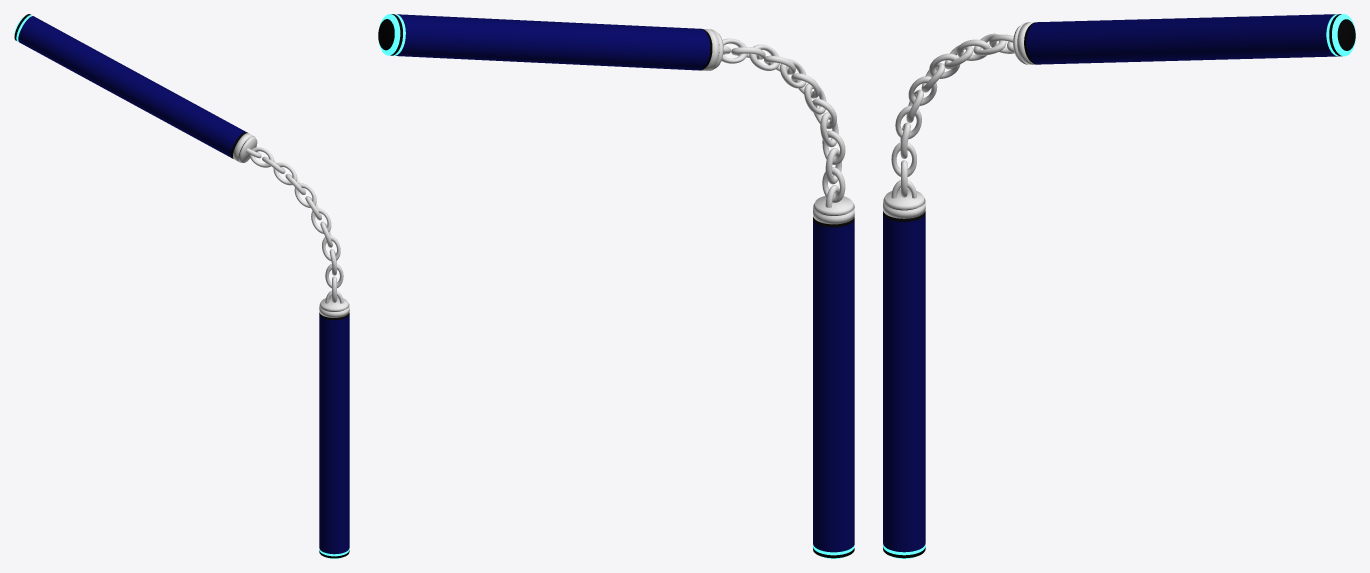
File: Nunchuck.fbx
3 views of the same model, side by side, from view 1: azimuth 90°, elevation 25°; view 2: azimuth 150°, elevation 25°; view 3: azimuth 270°, elevation 25° (orthographic). The views are drawn at different scales.
Visible parts, largest first — view 1: Cylinder; view 2: Cylinder; view 3: Cylinder.
Boxes of the visible parts, x1,y1,x2,y2 form: Cylinder: (14,14,349,558); Cylinder: (378,14,854,558); Cylinder: (883,14,1355,558).
Bounding box in the file's own units: 64.45 × 150 × 99.09.
